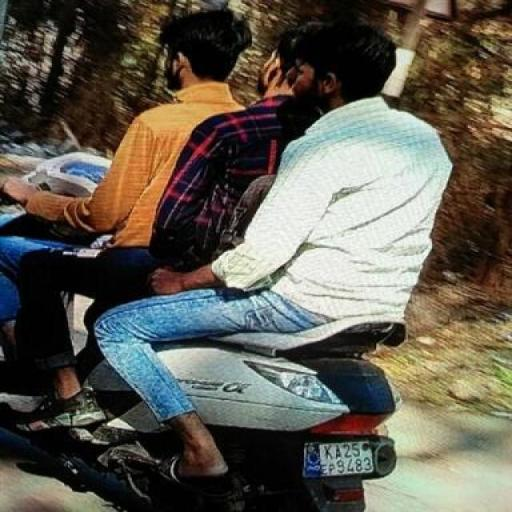tripple riding: (24, 4, 456, 318)
